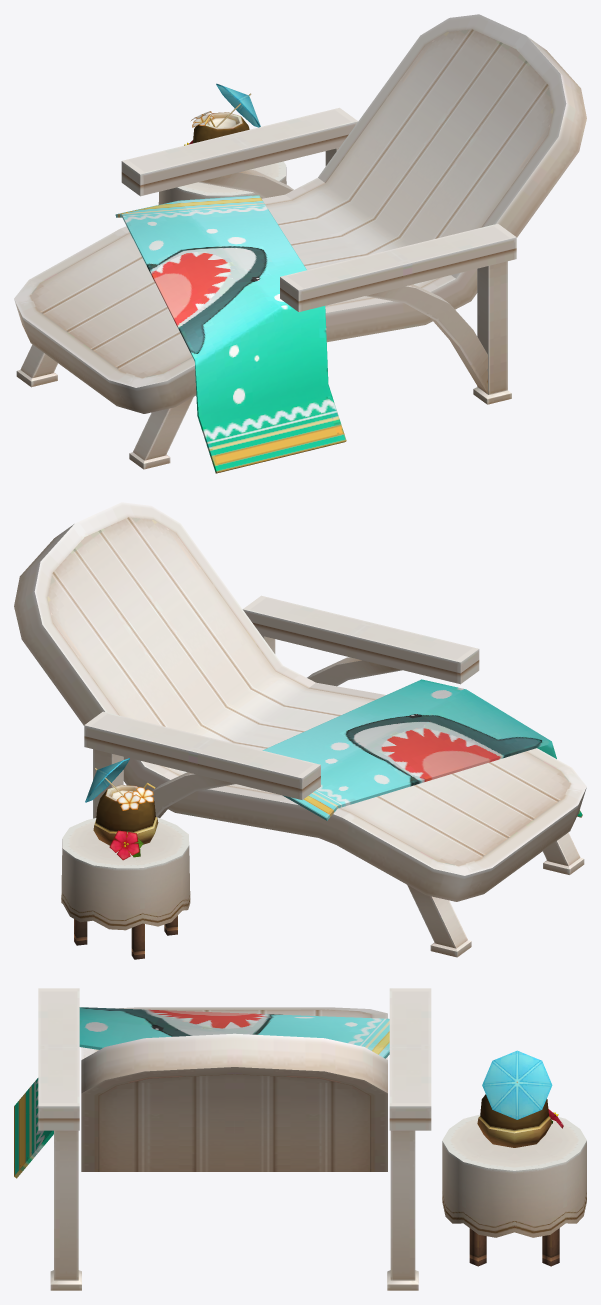
Rendered from my_ariussummer_01_sunbed_02.glb.
3 views of the same model, one above another, from view 1: azimuth 30°, elevation 25°; view 2: azimuth 150°, elevation 25°; view 3: azimuth 270°, elevation 25° (orthographic). The views are drawn at different scales.
Visible parts, largest first — view 1: my_ariussummer_01_sunbed_02; view 2: my_ariussummer_01_sunbed_02; view 3: my_ariussummer_01_sunbed_02.
Boxes of the visible parts, left/top/right/bottom form: my_ariussummer_01_sunbed_02: left=14, top=14, right=586, bottom=473; my_ariussummer_01_sunbed_02: left=14, top=502, right=586, bottom=959; my_ariussummer_01_sunbed_02: left=14, top=988, right=586, bottom=1290.
Size of the model in its own units: 0.0103 by 0.0057 by 0.00957.
Materials: 1 (1 with a texture image).
